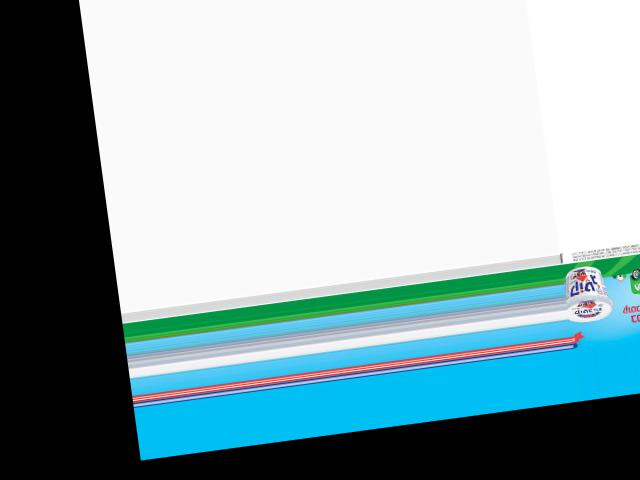cotage: (562, 262, 614, 324)
